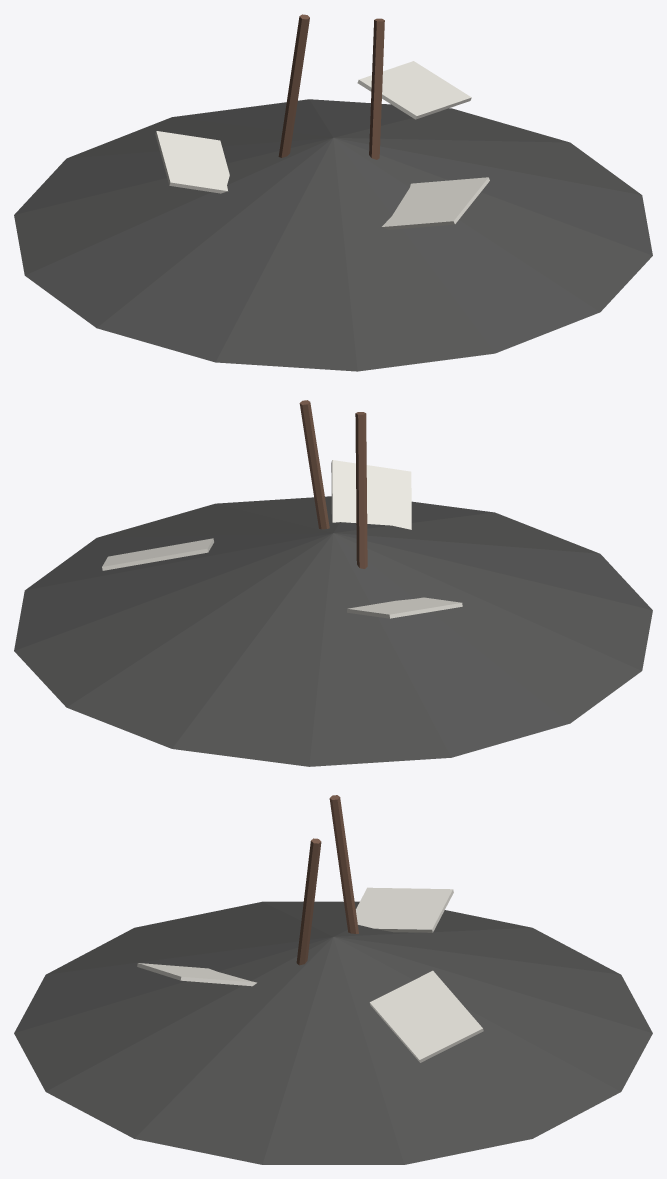
The model's file is paper_ash.glb.
The picture shows the model from 3 angles, top to bottom: view 1: azimuth 30°, elevation 25°; view 2: azimuth 150°, elevation 25°; view 3: azimuth 270°, elevation 25°; orthographic projection.
Parts seen in each view (by area): view 1: paper_ash; view 2: paper_ash; view 3: paper_ash.
Boxes of the visible parts, x1,y1,x2,y2 form: paper_ash: (14, 14, 652, 371); paper_ash: (14, 400, 652, 766); paper_ash: (14, 795, 652, 1164).
Bounding box in the file's own units: 0.9359 × 0.3695 × 0.96.
